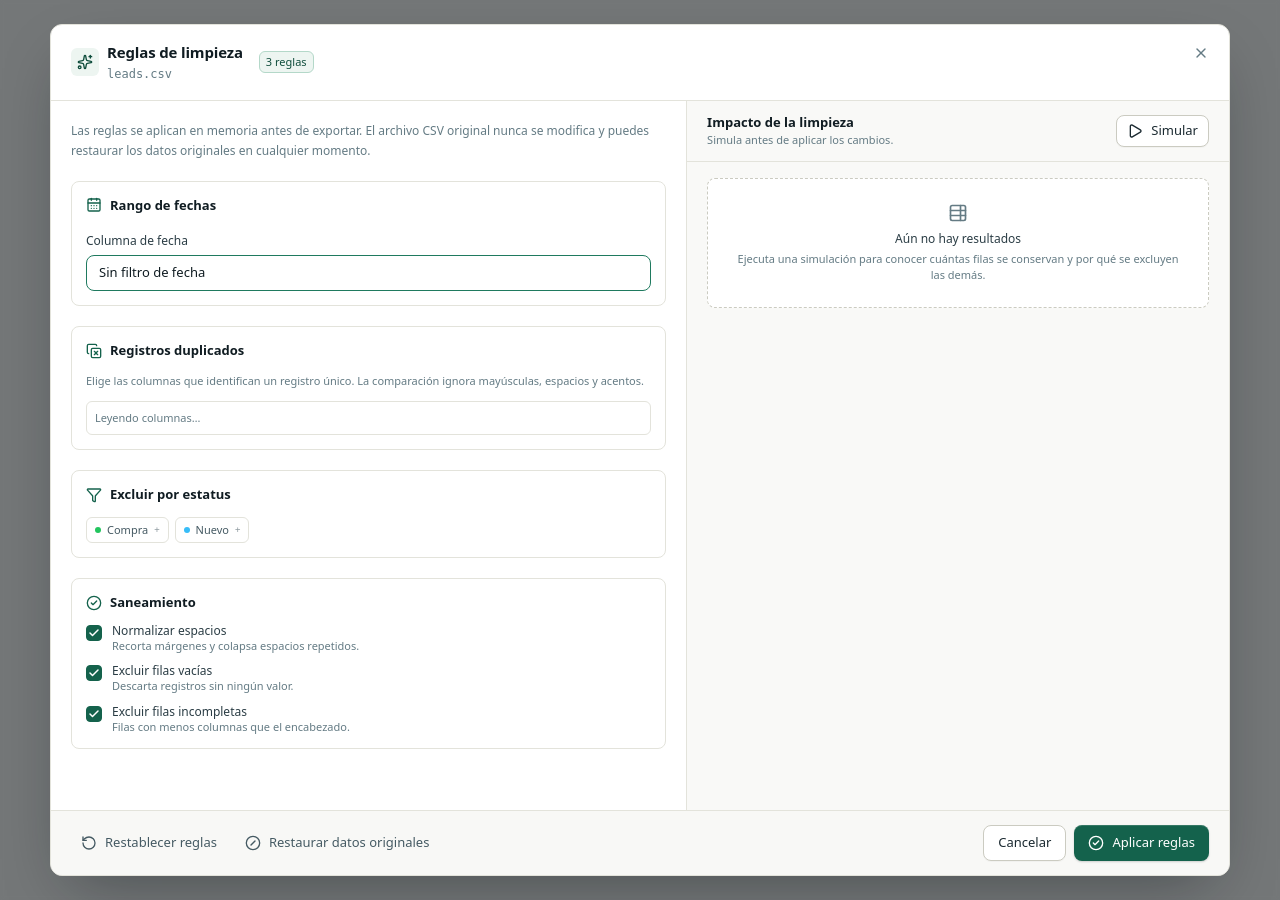
it: CleaningConfigModal (Phase 7) › sends selected statuses and shows the simulation summary
The width and height of the screenshot is (1280, 900).
Click the button "Compra +" at (127,530), box x1=86 y1=516 x2=169 y2=543
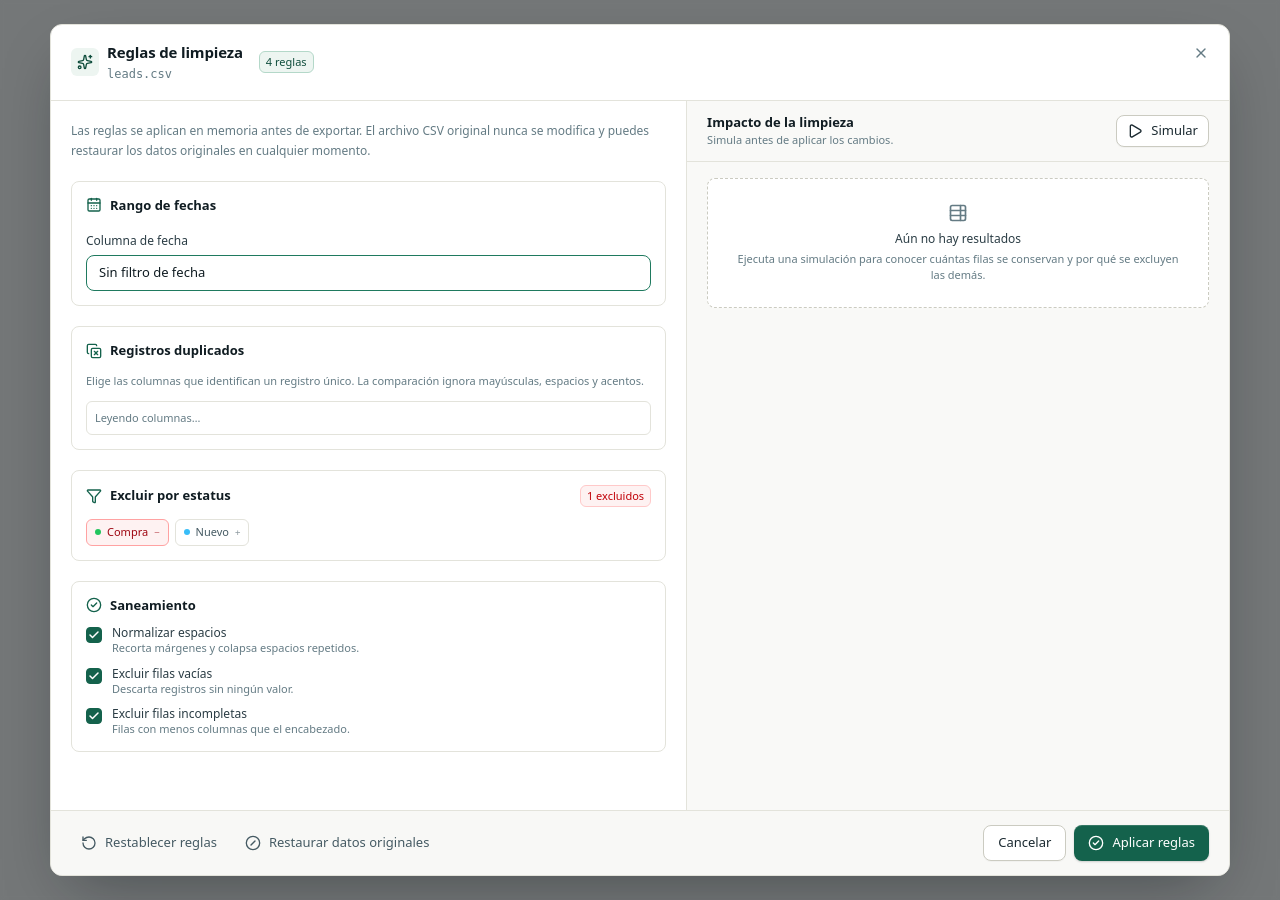
Click the button "Simular" at (1163,130), box x1=1116 y1=114 x2=1209 y2=146
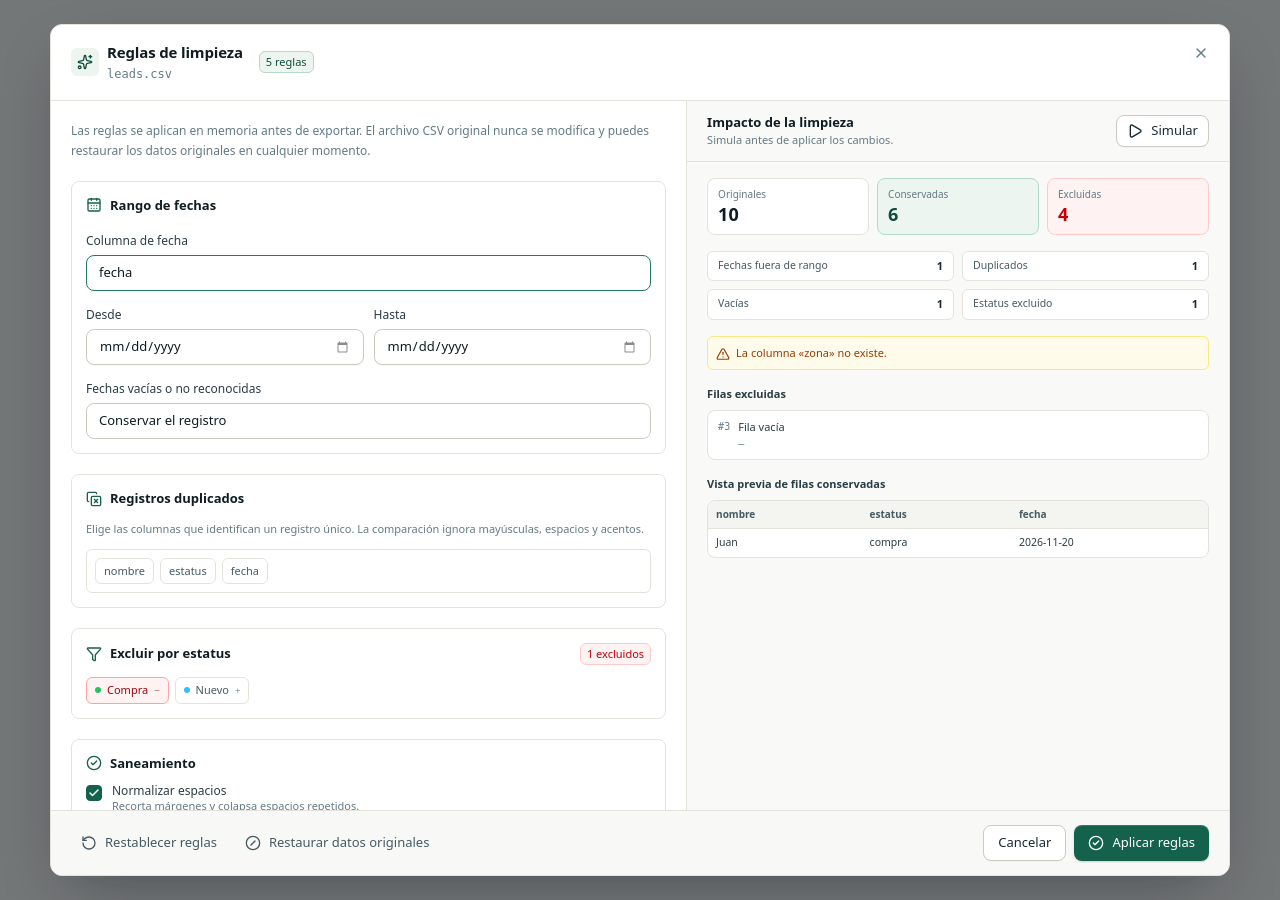
Expected: the text "4" is shown, x1=1058 y1=202 x2=1068 y2=226
Expected: the text "10" is shown, x1=718 y1=202 x2=739 y2=226
Expected: the text "6" is shown, x1=888 y1=202 x2=898 y2=226
